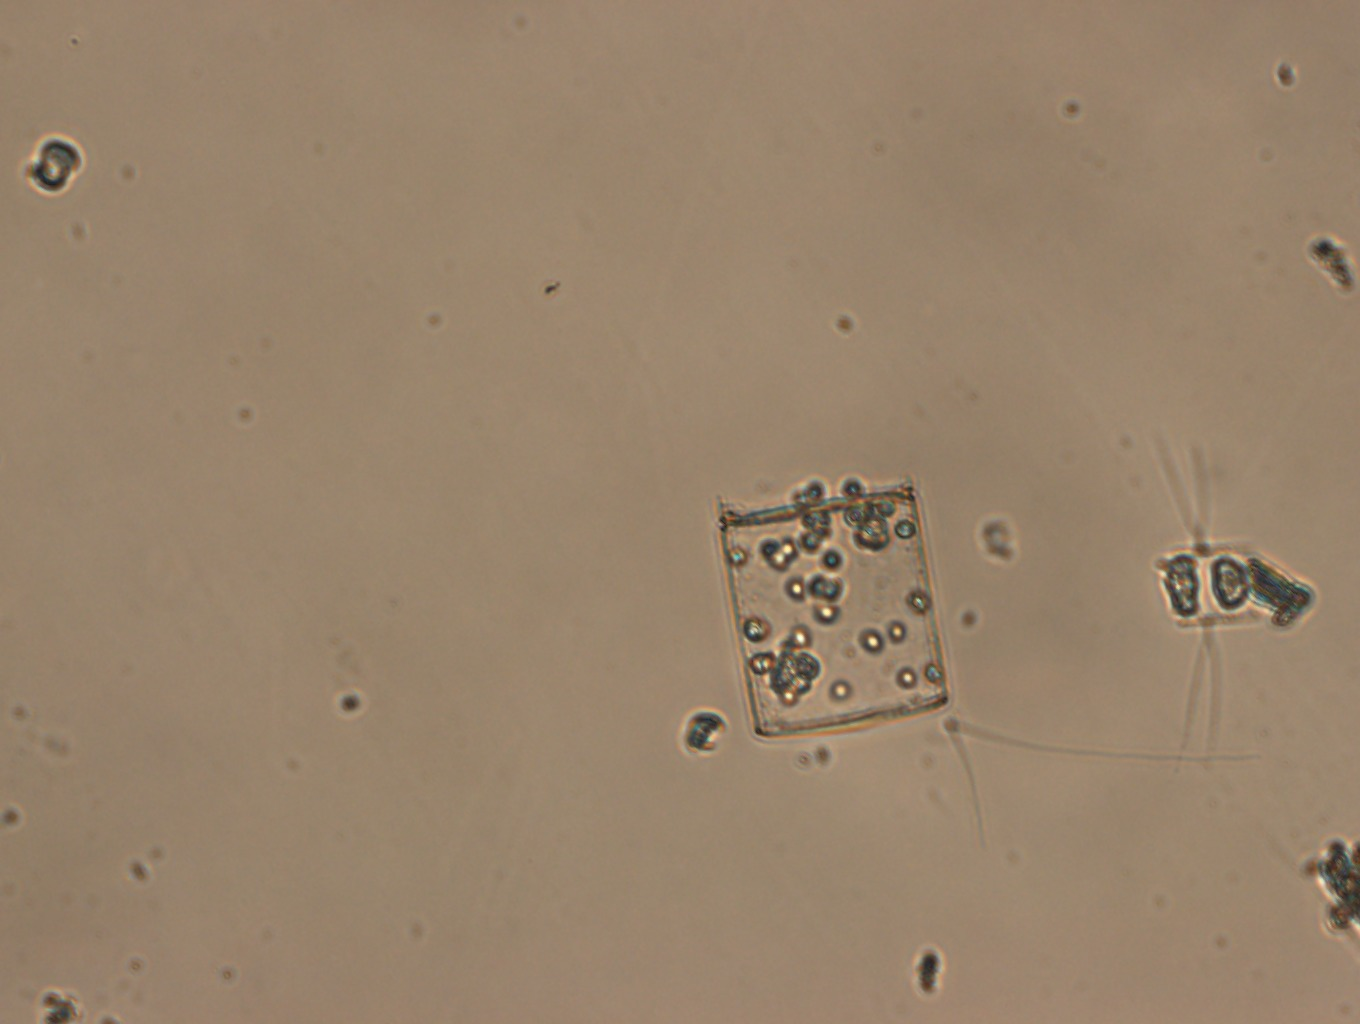chaetoceros: (1153, 435, 1252, 774)
guinardia flaccida: (719, 489, 947, 739)
